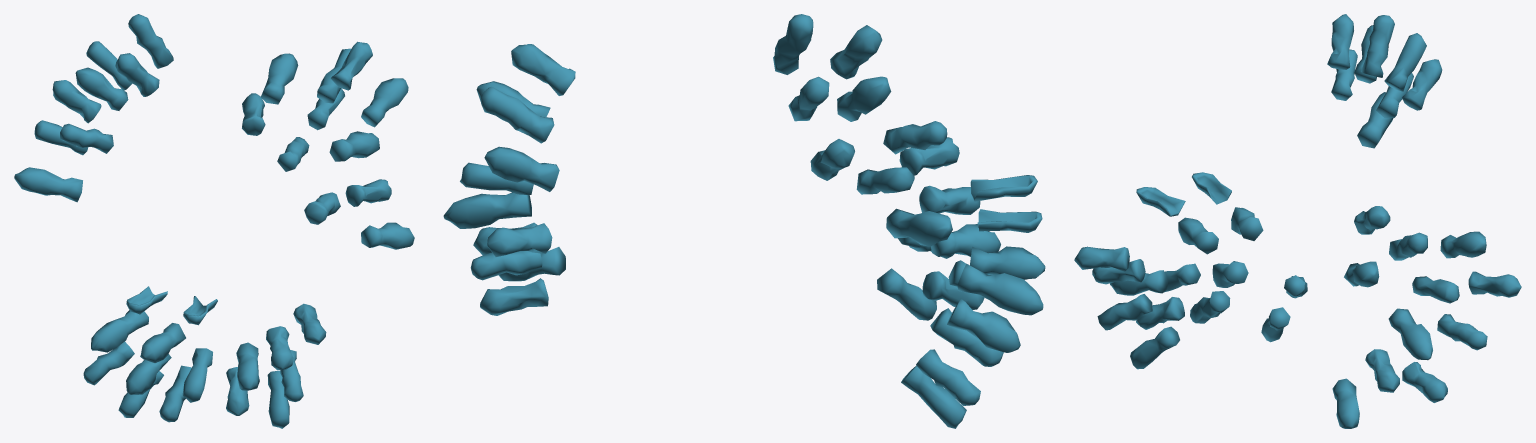
Rendered from cilia.glb.
3 views of the same model, side by side, from view 1: azimuth 30°, elevation 25°; view 2: azimuth 150°, elevation 25°; view 3: azimuth 270°, elevation 25° (orthographic). The views are drawn at different scales.
Parts seen in each view (by area): view 1: Cilia; view 2: Cilia; view 3: Cilia.
Part boxes in pixels (box(x1,y1,x2,y2)): Cilia: box(14, 14, 414, 428); Cilia: box(443, 14, 1045, 428); Cilia: box(1074, 14, 1521, 428).
Bounding box in the file's own units: 23.56 × 20.49 × 23.22.
